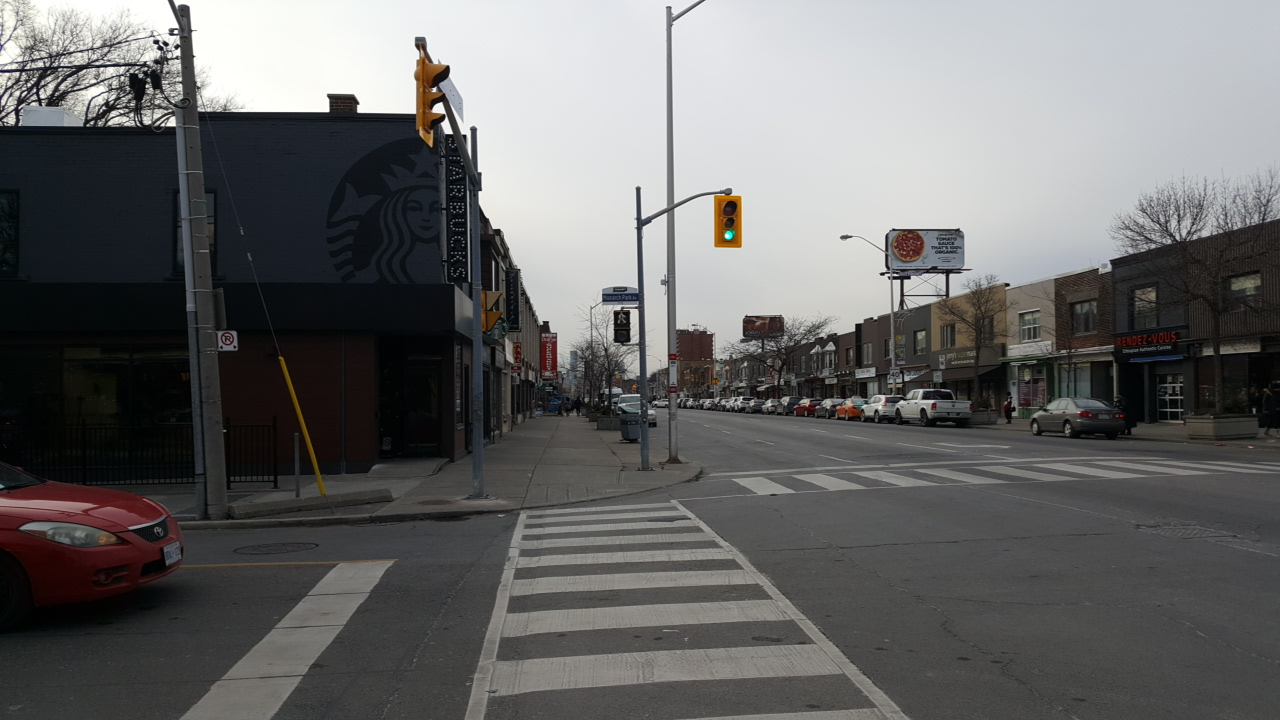light: (610, 308, 631, 345)
